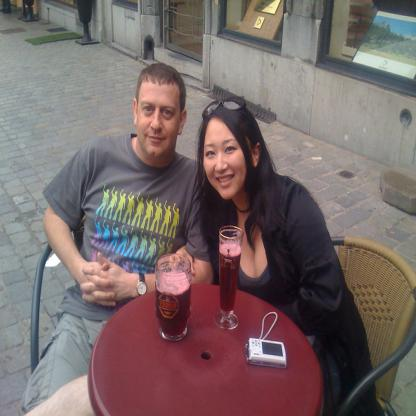drinking: (213, 225, 244, 330), (155, 254, 191, 341)
